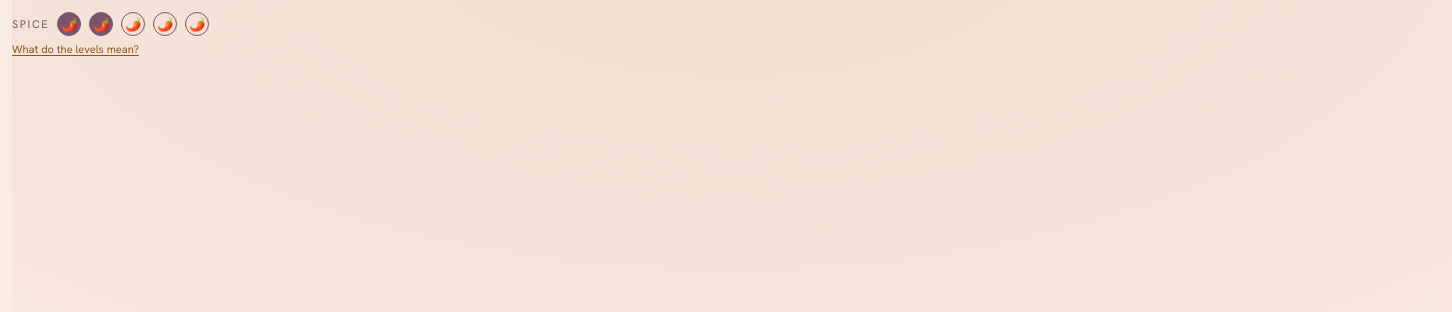
Test case: LevelPicker — the resting state shows NO level text at all › the link is the only route back once nothing is open
The width and height of the screenshot is (1452, 312).
Click the button "What do the levels mean?". click: coordinates (75, 49)
box: [12, 41, 139, 58]
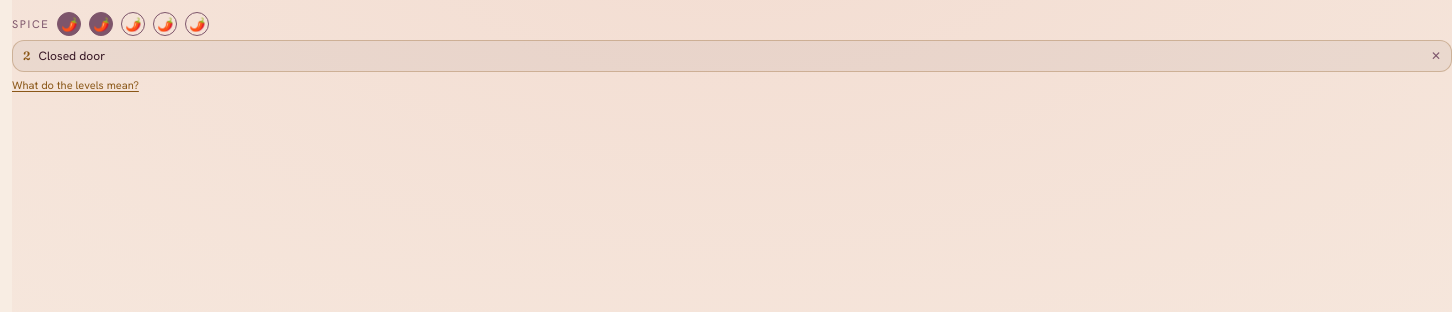
Result: the message shows "Closed door" at [38, 48, 105, 64]
